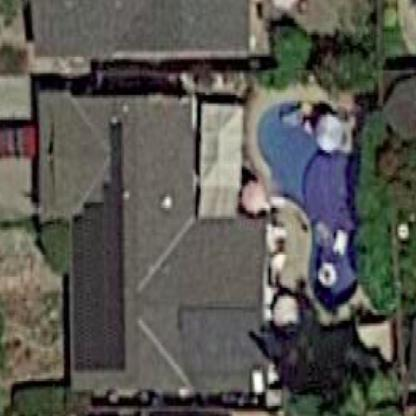solar_panel: (70, 115, 136, 381)
swimming_pool: (251, 80, 373, 316)
